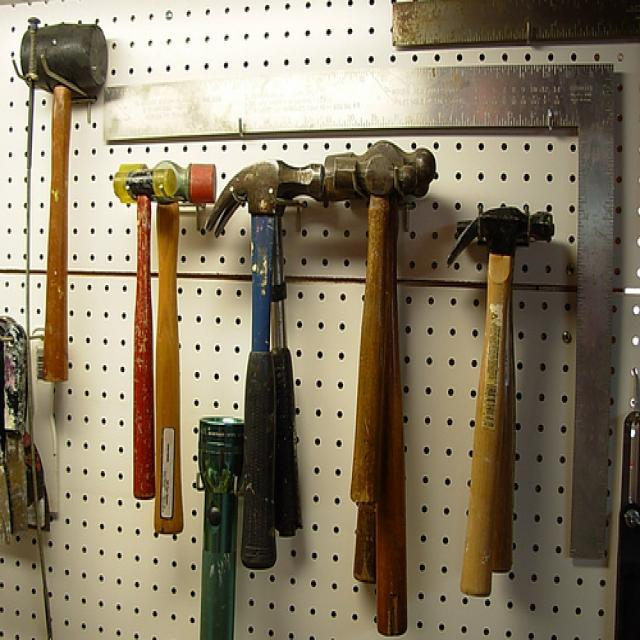hammer: (205, 151, 327, 584), (441, 196, 560, 604), (318, 133, 438, 511), (114, 142, 218, 540), (13, 11, 116, 389)
